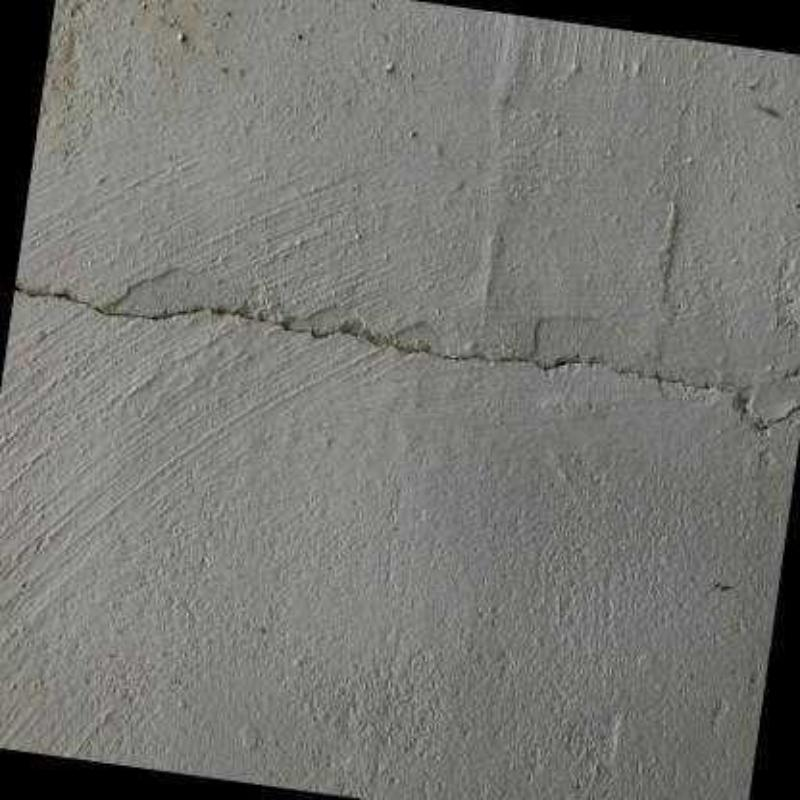crack: (11, 275, 798, 431)
